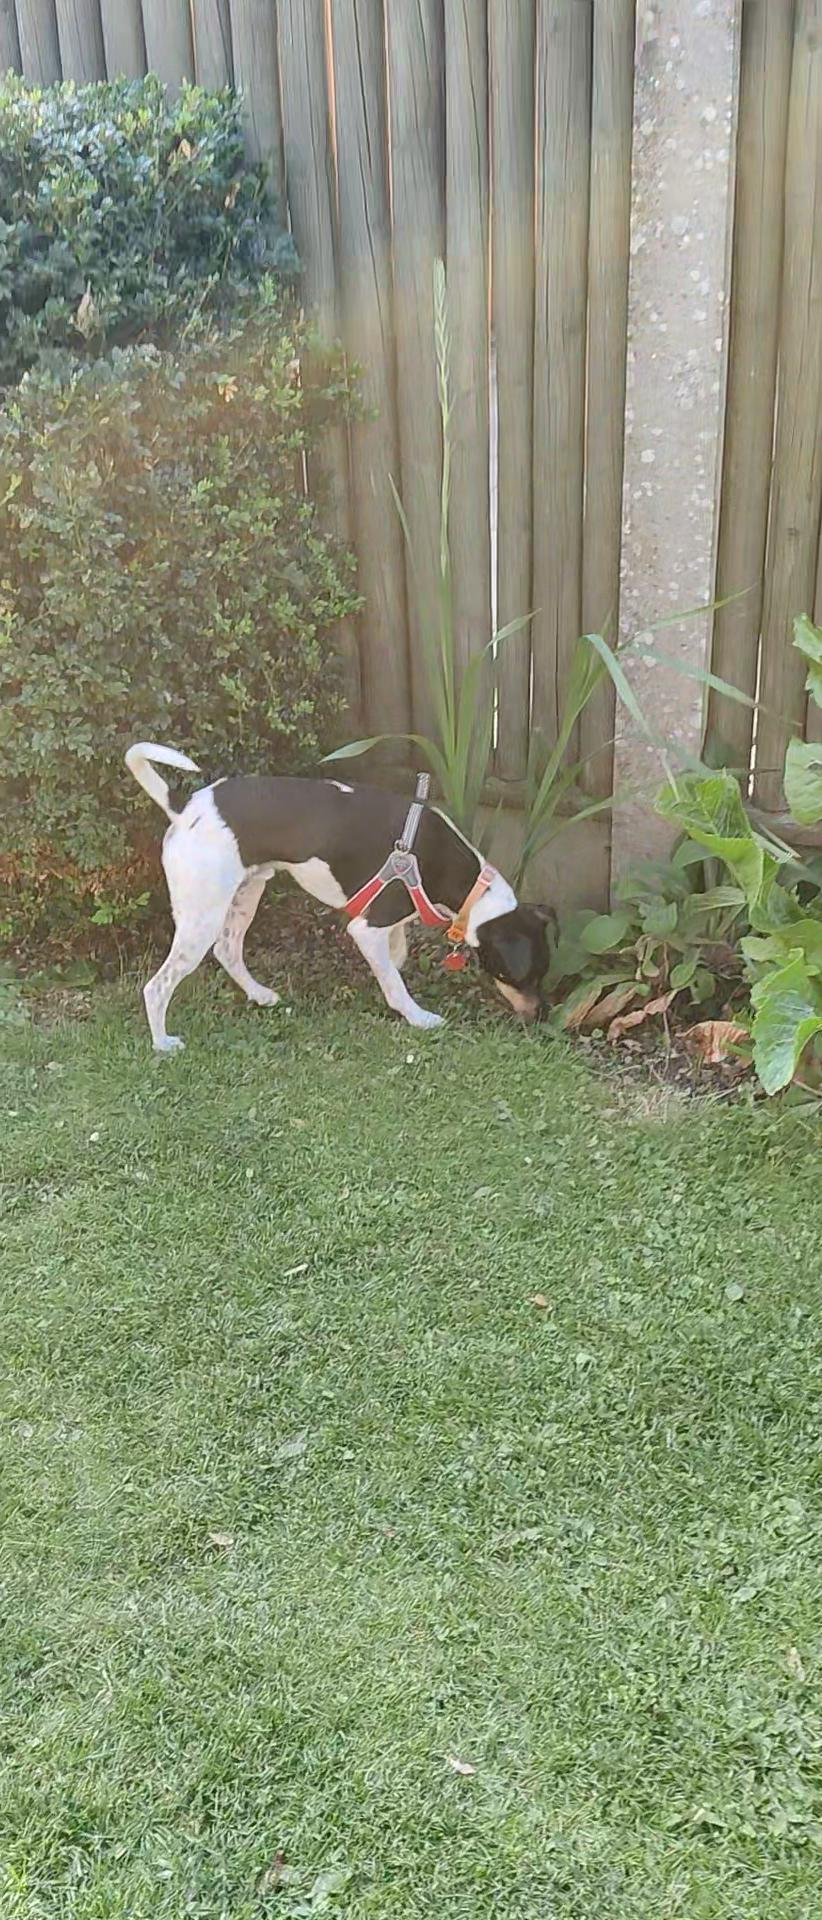Dog: (108, 727, 568, 1056)
